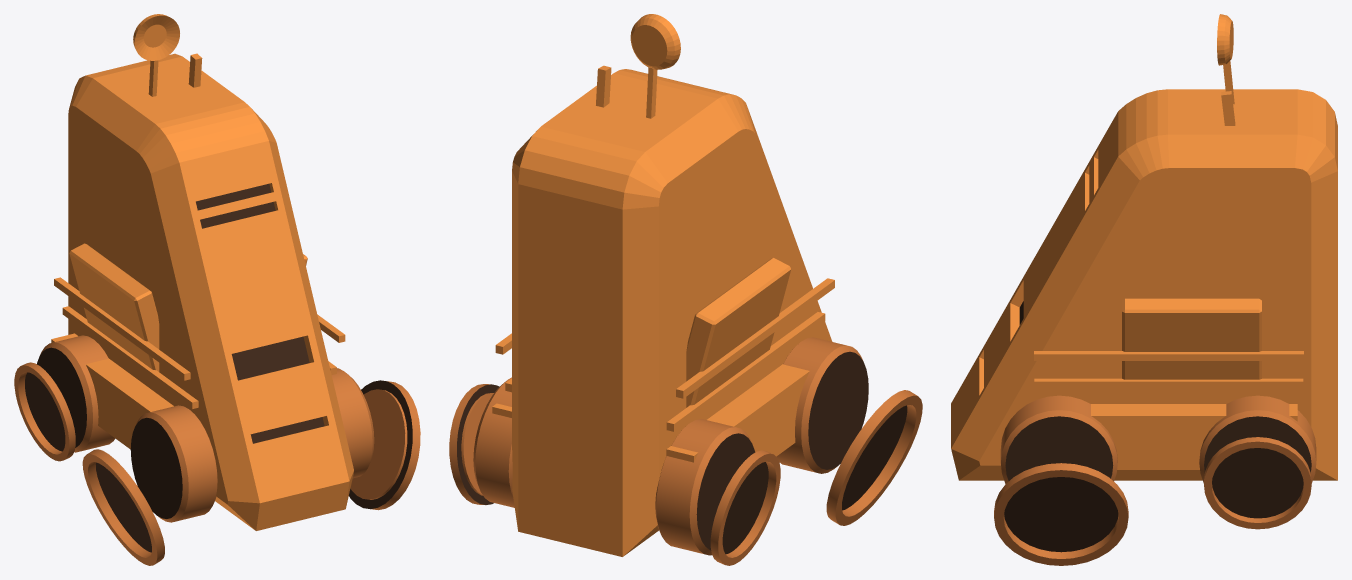
File: HoverCar1.glb
3 views of the same model, side by side, from view 1: azimuth 30°, elevation 25°; view 2: azimuth 150°, elevation 25°; view 3: azimuth 270°, elevation 25° (orthographic). The views are drawn at different scales.
Parts seen in each view (by area): view 1: Cylinder.001; view 2: Cylinder.001; view 3: Cylinder.001.
Boxes of the visible parts, x1,y1,x2,y2 form: Cylinder.001: (14, 14, 420, 565); Cylinder.001: (449, 14, 922, 565); Cylinder.001: (951, 14, 1337, 565).
Size of the model in its own units: 3.04 by 4.51 by 3.27.
